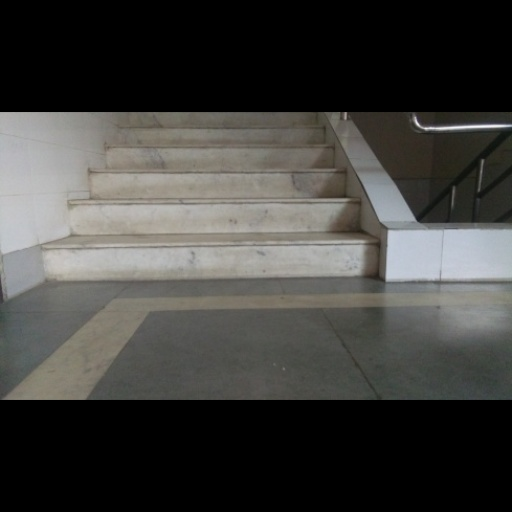Stairs: (43, 113, 378, 280)
